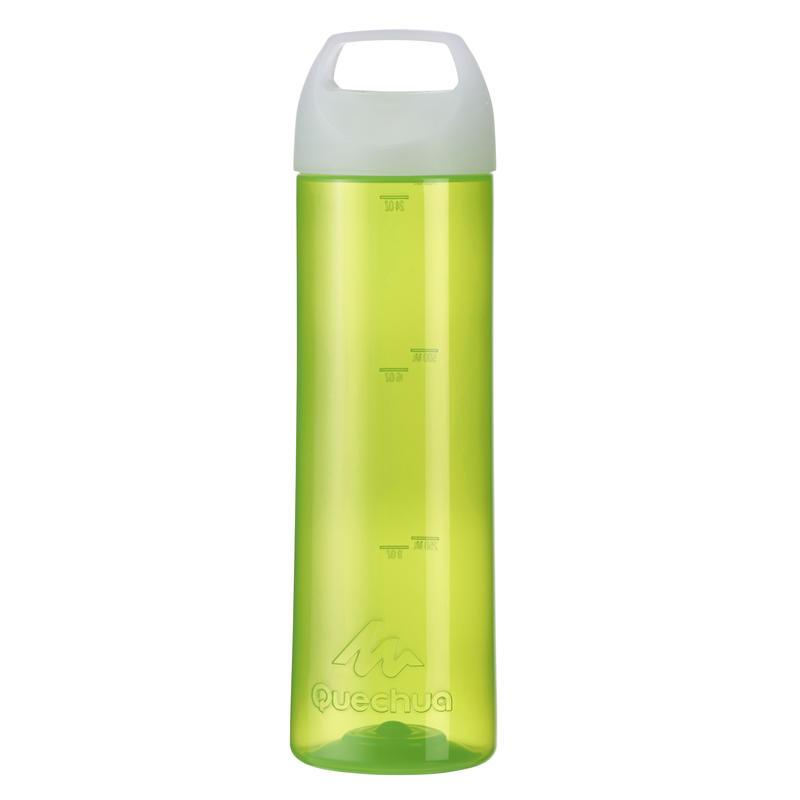PP: (294, 29, 497, 776)
